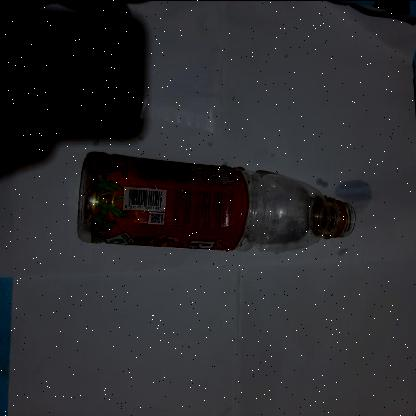Plastic Bottle: (66, 128, 376, 262)
